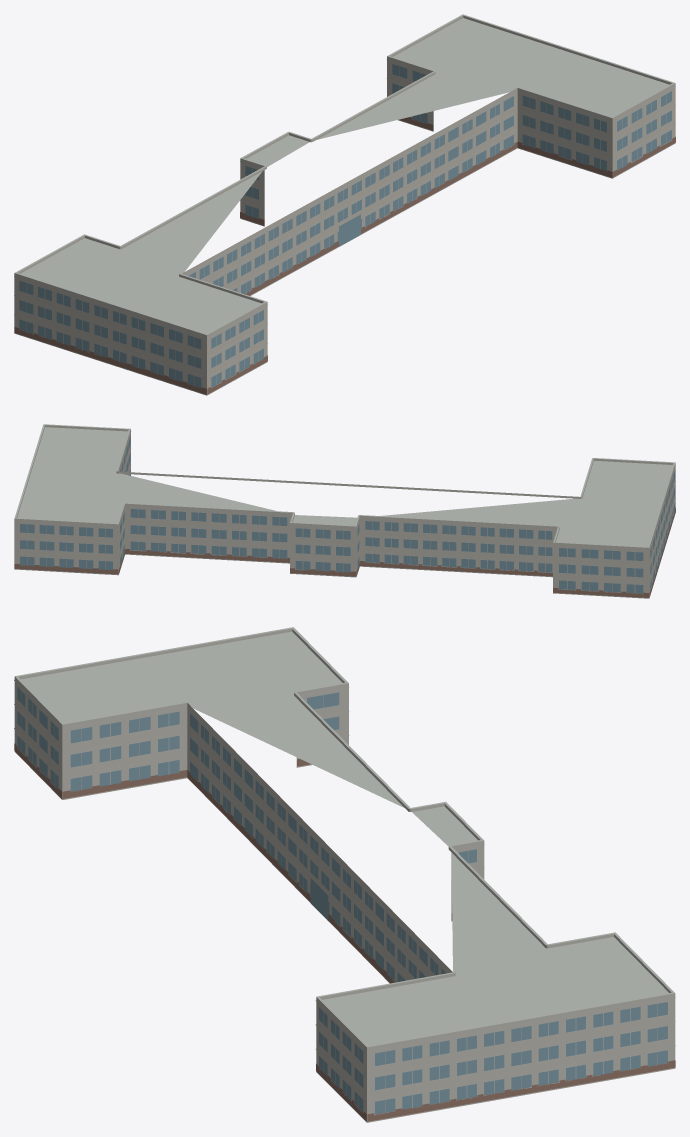
Rendered from public-0aa10c88-e0b7-4c21-8310-be0e03346fc0.glb.
3 renders of one model, top to bottom at view 1: azimuth 30°, elevation 25°; view 2: azimuth 150°, elevation 25°; view 3: azimuth 270°, elevation 25°, orthographic. The views are drawn at different scales.
Parts seen in each view (by area): view 1: public-0aa10c88-e0b7-4c21-8310-be0e03346fc0; view 2: public-0aa10c88-e0b7-4c21-8310-be0e03346fc0; view 3: public-0aa10c88-e0b7-4c21-8310-be0e03346fc0.
Boxes of the visible parts, x1,y1,x2,y2 form: public-0aa10c88-e0b7-4c21-8310-be0e03346fc0: [14, 14, 675, 395]; public-0aa10c88-e0b7-4c21-8310-be0e03346fc0: [14, 424, 675, 598]; public-0aa10c88-e0b7-4c21-8310-be0e03346fc0: [14, 627, 675, 1122].
Size of the model in its own units: 109 by 9.15 by 72.75.
